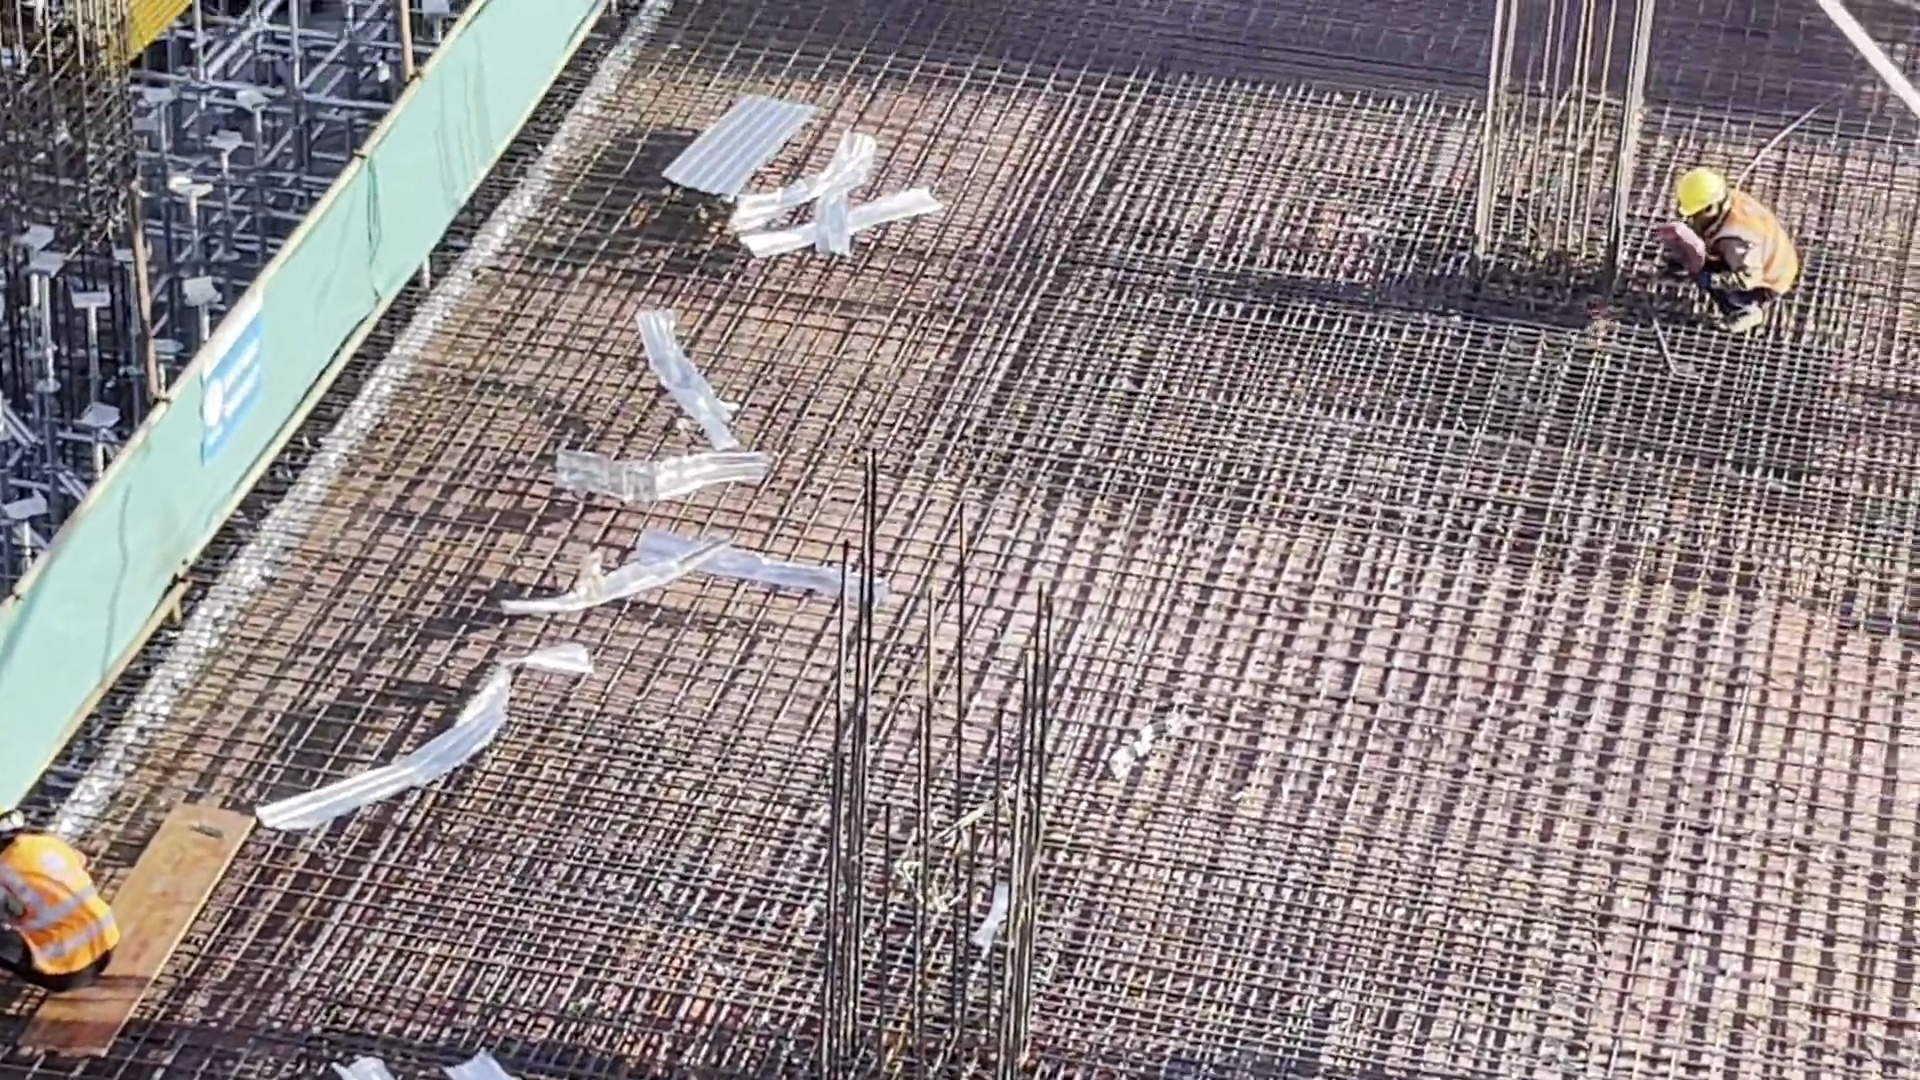helmet: (1673, 168, 1721, 214)
person: (1664, 169, 1803, 339), (1, 836, 119, 985)
slogan: (188, 302, 274, 443)
vest: (7, 841, 120, 980), (1724, 202, 1803, 294)
